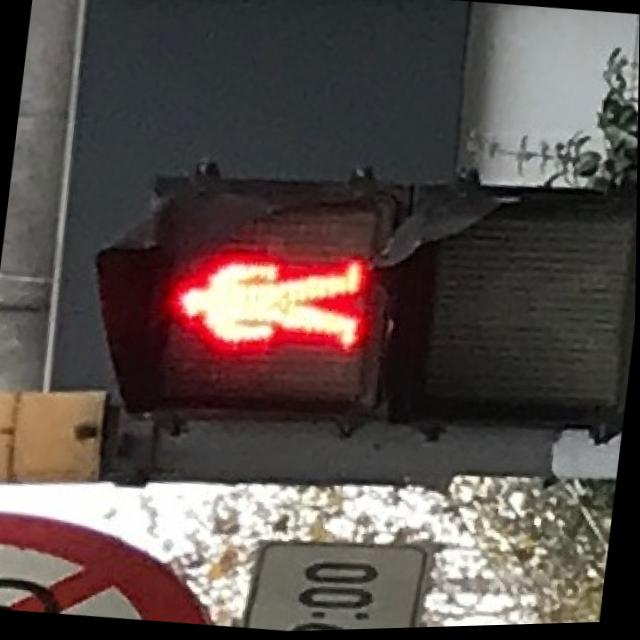red_light: (140, 193, 387, 427)
